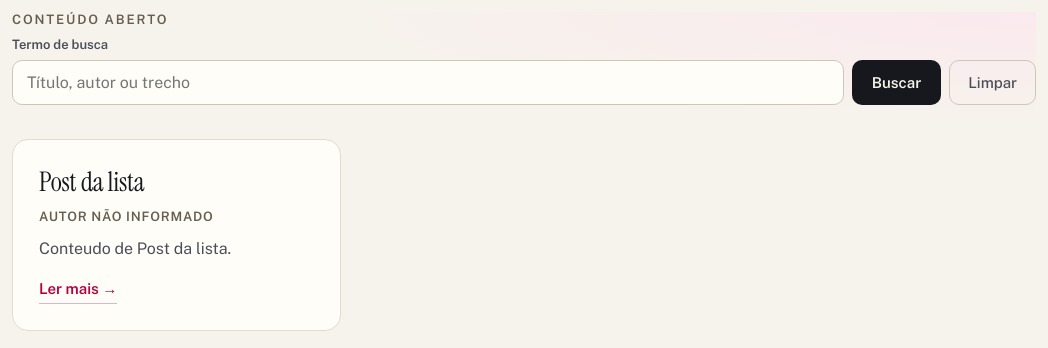
Scenario: buscar substitui os resultados pela busca
This screenshot has width=1048, height=348.
Check: the heading "Post da lista" is shown, box [39,164,144,199]
Type "busca" into the search field labelled "Termo de busca" at (428, 82), box [12,60,844,105]
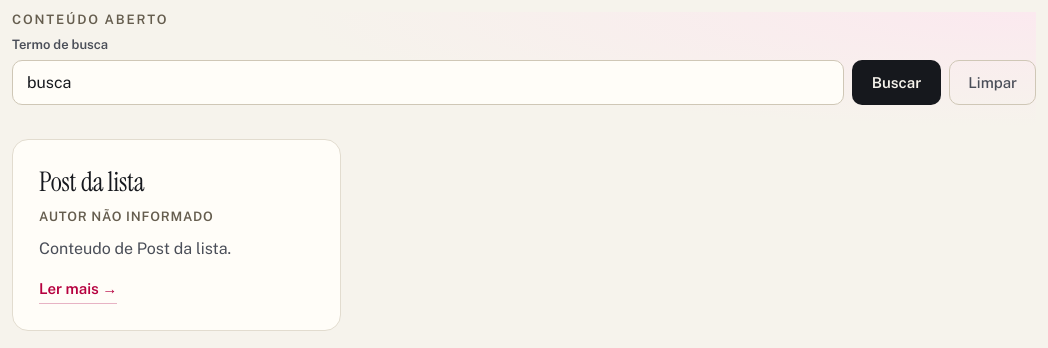
Click the button "Buscar" at (897, 82), box [852,60,941,105]
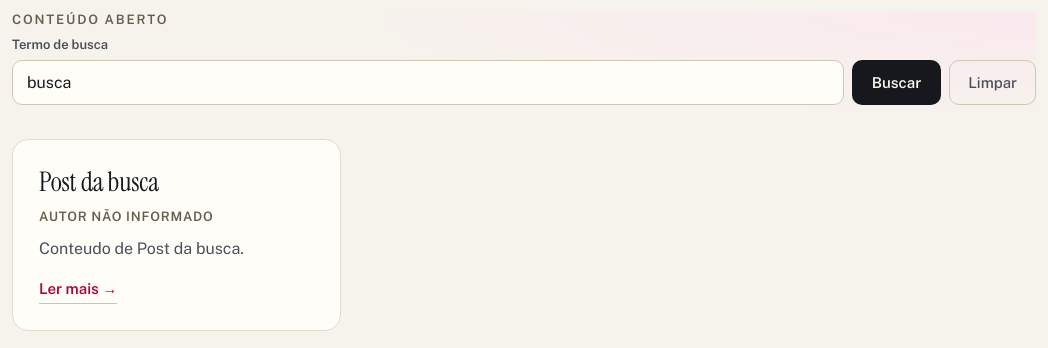
Check: the heading "Post da busca" is shown, box [39,164,159,199]
Check: the heading "Post da lista" is gone
